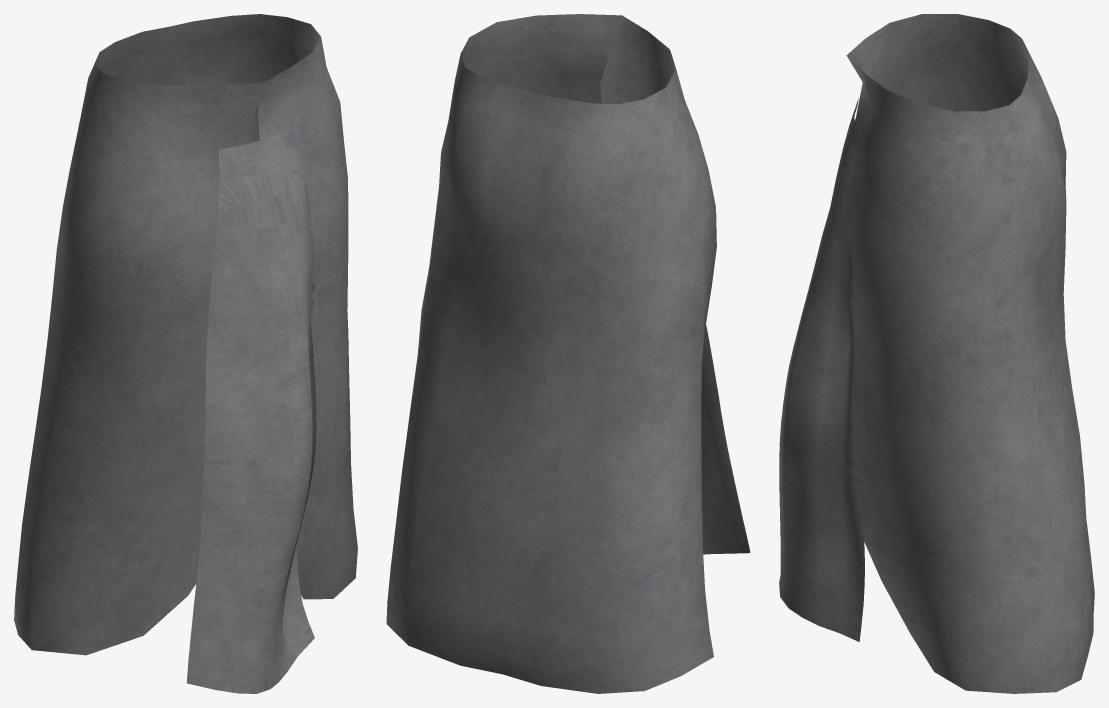
The model's file is clo_rivendell_torso_light_light_tier2_3.fbx.
3 renders of one model, left to right at view 1: azimuth 30°, elevation 25°; view 2: azimuth 150°, elevation 25°; view 3: azimuth 270°, elevation 25°, orthographic. The views are drawn at different scales.
Parts seen in each view (by area): view 1: clo_rivendell_torso_light_light_tier2_3; view 2: clo_rivendell_torso_light_light_tier2_3; view 3: clo_rivendell_torso_light_light_tier2_3.
Boxes of the visible parts, x1=… form: clo_rivendell_torso_light_light_tier2_3: x1=14, y1=14, x2=357, y2=693; clo_rivendell_torso_light_light_tier2_3: x1=386, y1=14, x2=750, y2=693; clo_rivendell_torso_light_light_tier2_3: x1=779, y1=14, x2=1094, y2=693.
Size of the model in its own units: 0.5041 by 0.4435 by 0.8996.
1 material, 1 textured.
